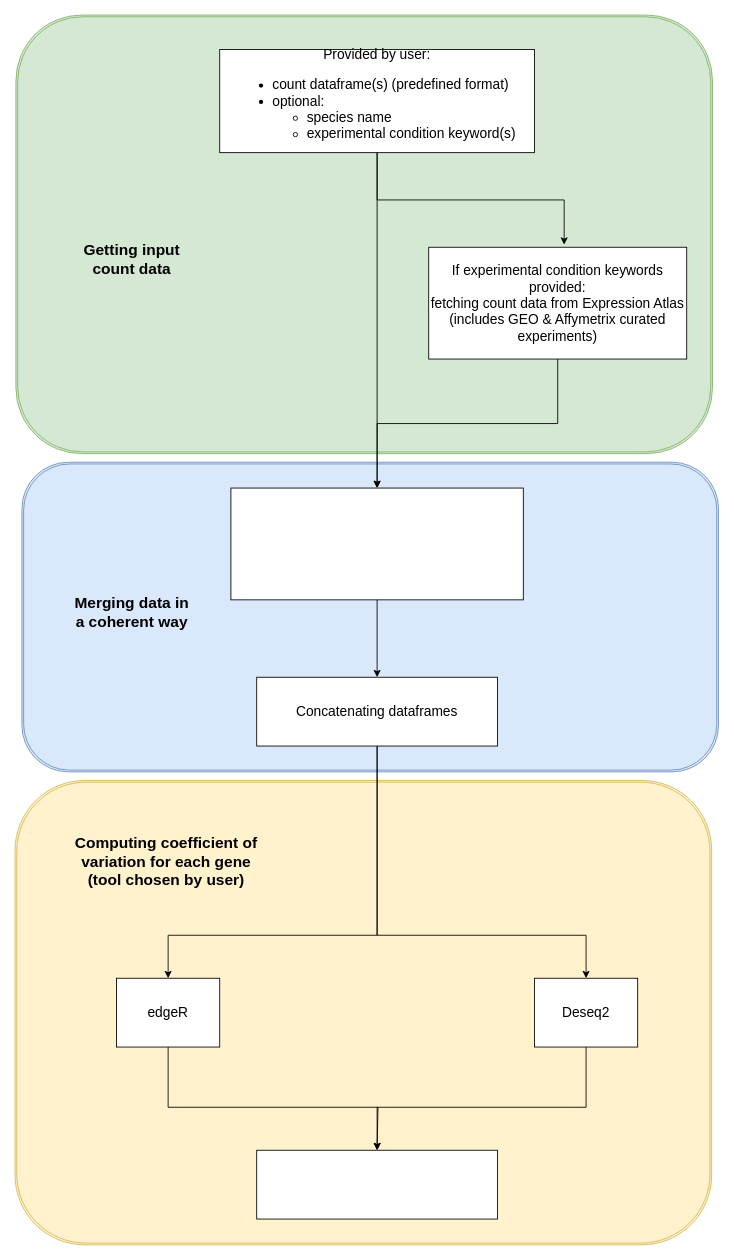
The diagram is 734 pixels wide and 1260 high, and some of its shapes have lost their labels. The centre of each missing label's shape, as x and y in pixels:
Mapping all gene ids to ncbi gene ids: the point at 376,543
Sorted list of genes showing lowest variation across samples: the point at 377,1184
